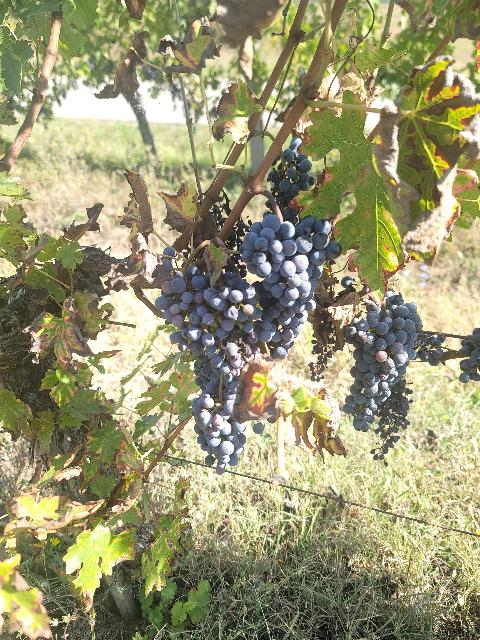grapes: (241, 214, 341, 359), (342, 292, 421, 431), (155, 259, 214, 345), (192, 392, 246, 468), (204, 272, 258, 334), (371, 379, 412, 460)
